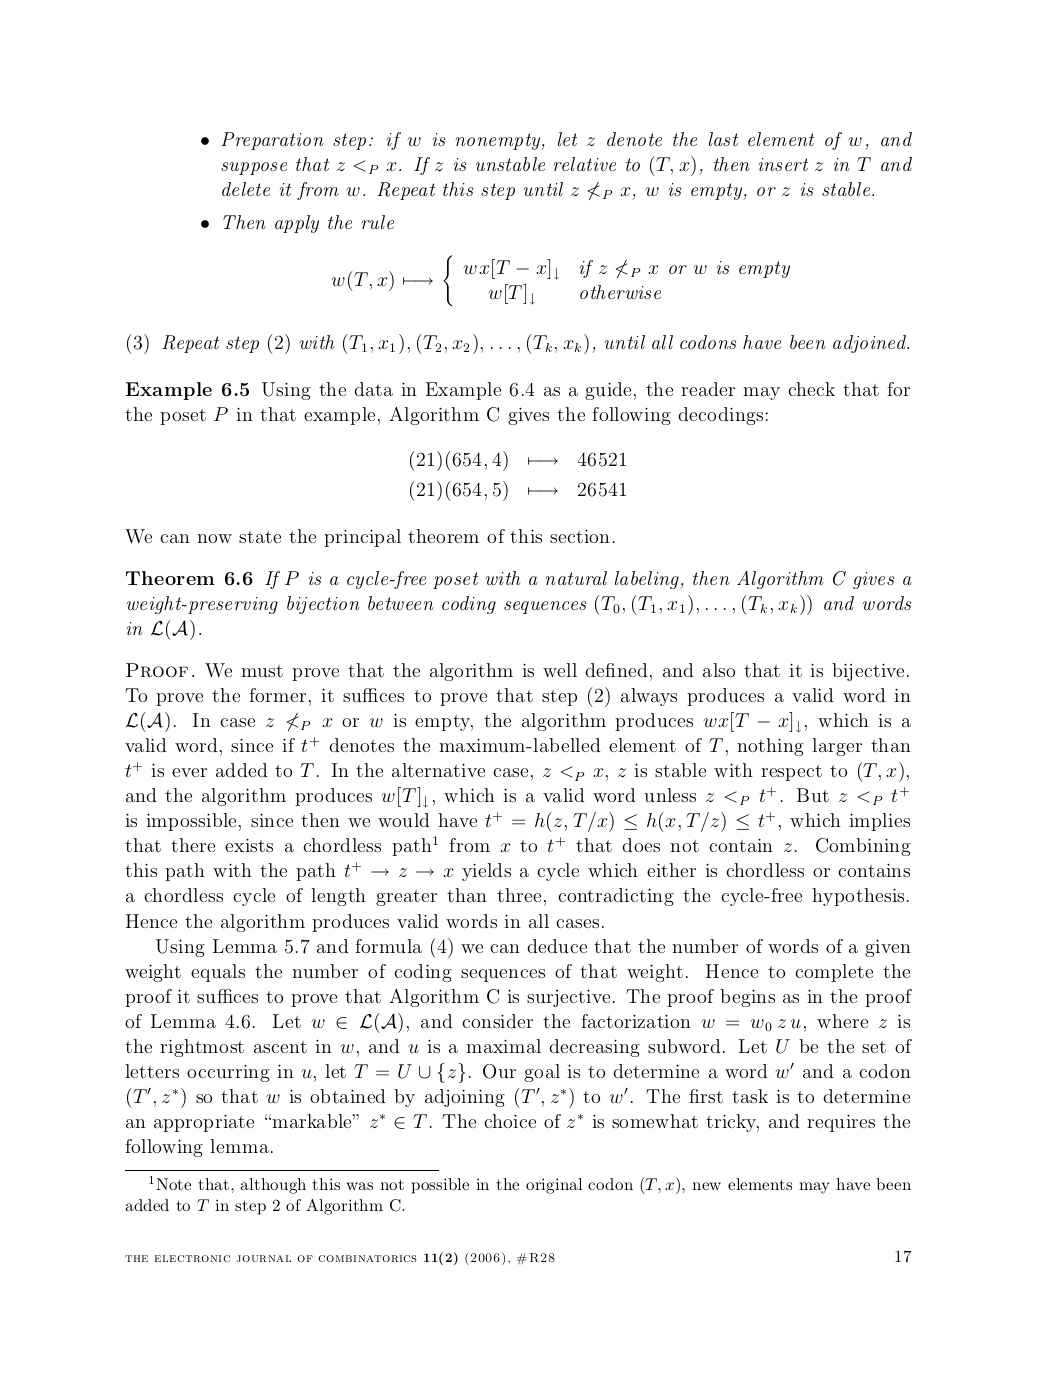formula: (331, 254, 789, 306), (410, 450, 626, 471), (410, 480, 626, 502)
